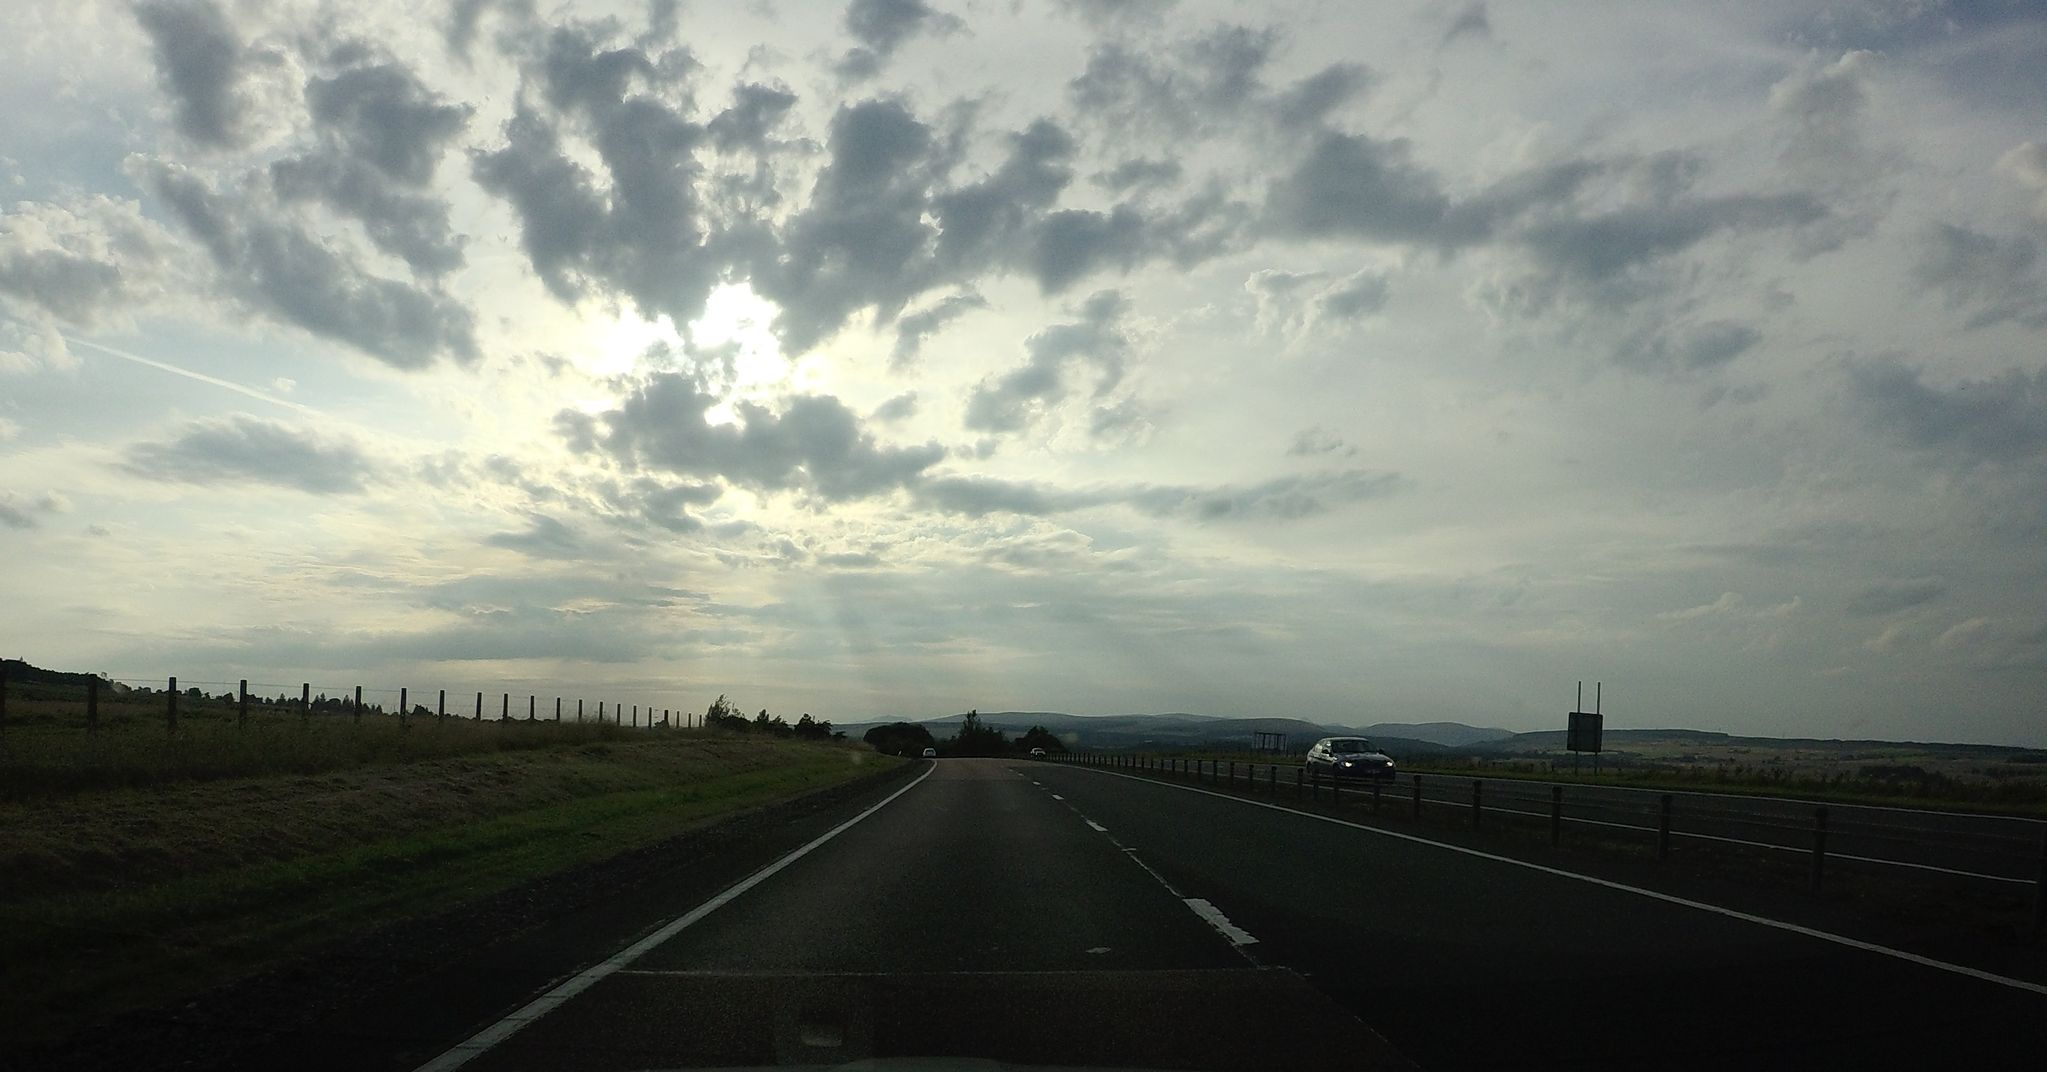car: (1304, 735, 1394, 782)
